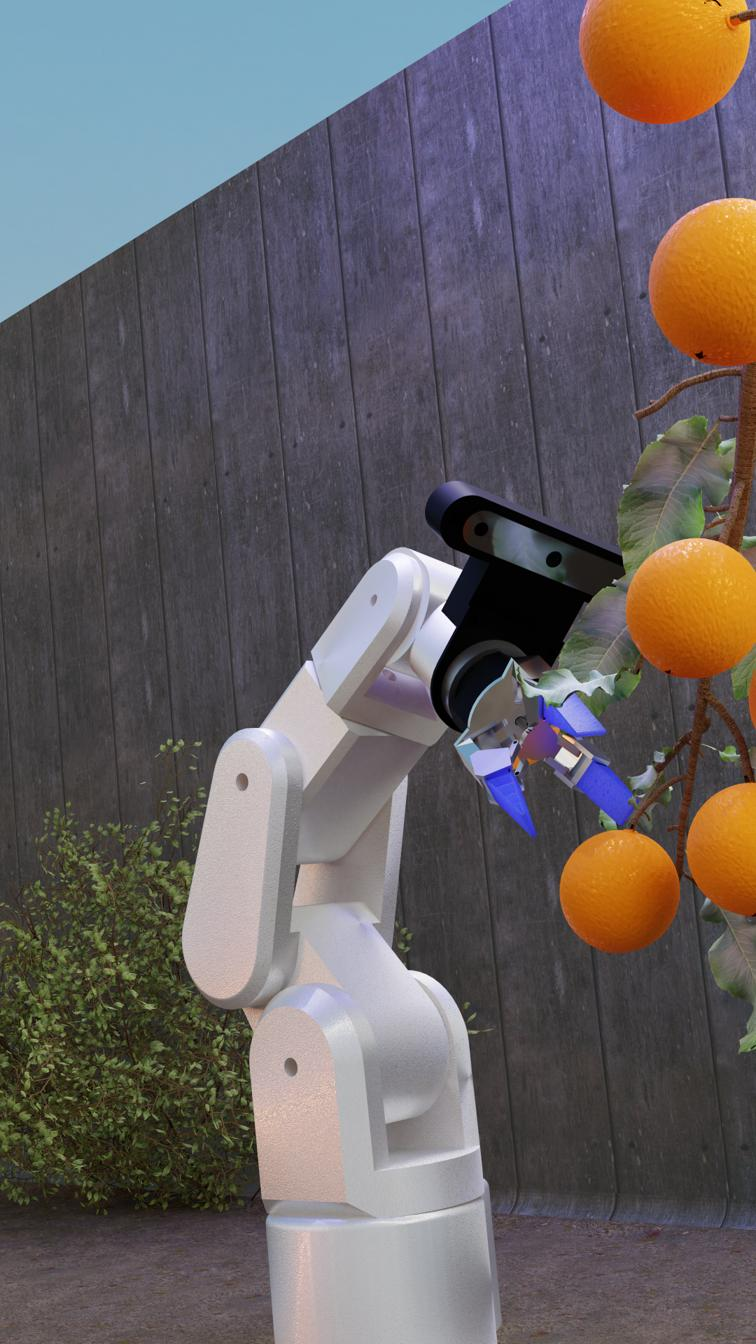Kumquat: (576, 8, 742, 128), (643, 204, 755, 359), (627, 545, 753, 669), (561, 833, 677, 946), (685, 777, 754, 918)
